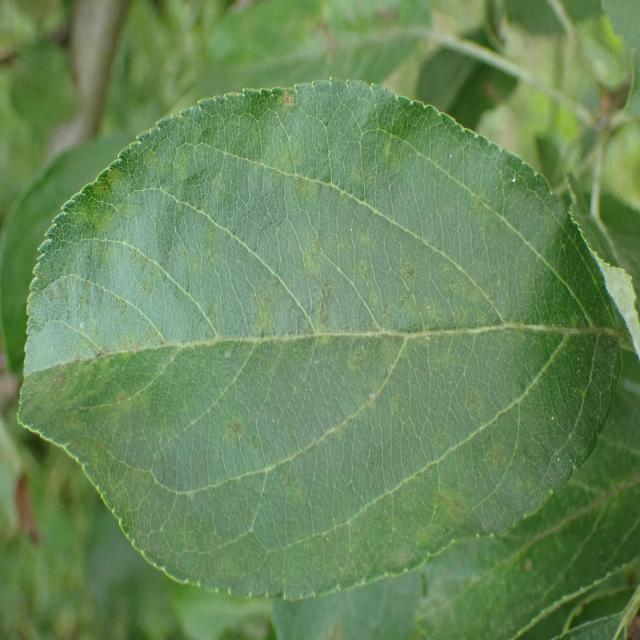scab: (36, 92, 613, 544)
